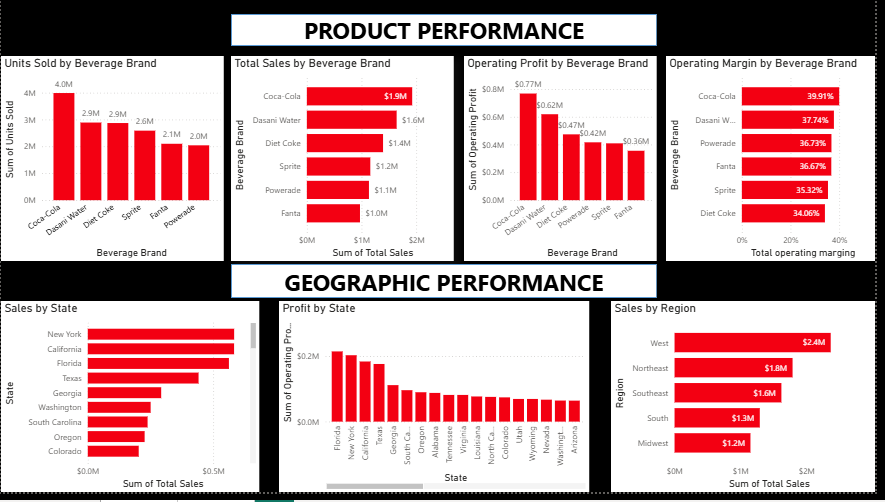

What the dashboard file says about the page in this screenshot:
{"tool":"powerbi","page":{"name":"Page 2","canvas":[1280,720],"ordinal":1},"visuals":[{"type":"clusteredColumnChart","title":"Units Sold by Beverage Brand","fields":{"Category":["Data.Beverage Brand"],"Y":["Sum(Data.Units Sold)"]},"box":[0,82,326.3,300],"z":0},{"type":"barChart","title":"Total Sales by Beverage Brand","fields":{"Category":["Data.Beverage Brand"],"Y":["Sum(Data.Total Sales)"]},"box":[336.6,82,326.3,300],"z":1000},{"type":"barChart","title":"Operating Margin by Beverage Brand","fields":{"Category":["Data.Beverage Brand"],"Y":["Data.Total operating marging"]},"box":[973.2,82,307.3,300],"z":2000},{"type":"clusteredColumnChart","title":"Operating Profit by Beverage Brand","fields":{"Y":["Sum(Data.Operating Profit)"],"Category":["Data.Beverage Brand"]},"box":[677.6,82,282.4,300],"z":3000},{"type":"clusteredBarChart","title":"Sales by State","fields":{"Category":["Data.State"],"Y":["Sum(Data.Total Sales)"]},"box":[0,440.5,377.6,279.5],"z":4000},{"type":"columnChart","title":"Profit by State","fields":{"Category":["Data.State"],"Y":["Sum(Data.Operating Profit)"]},"box":[406.8,440.5,453.7,279.5],"z":5000},{"type":"clusteredBarChart","title":"Sales by Region","fields":{"Category":["Data.Region"],"Y":["Sum(Data.Total Sales)"]},"box":[892.7,440.5,387.8,279.5],"z":6000},{"type":"shape","box":[336.6,386.3,623.4,49.8],"z":7000},{"type":"shape","box":[336.6,20.5,623.4,46.8],"z":8000}]}

Visuals, with their boxes in screenshot pixels (x1, y1, x2, y2), scaled from the page's 1280x720 canvas onto the 885x502 screenshot:
"Units Sold by Beverage Brand" clusteredColumnChart: 0 57 226 266
"Total Sales by Beverage Brand" barChart: 233 57 458 266
"Operating Margin by Beverage Brand" barChart: 673 57 884 266
"Operating Profit by Beverage Brand" clusteredColumnChart: 468 57 664 266
"Sales by State" clusteredBarChart: 0 307 261 501
"Profit by State" columnChart: 281 307 595 501
"Sales by Region" clusteredBarChart: 617 307 884 501
shape: 233 269 664 304
shape: 233 14 664 47
